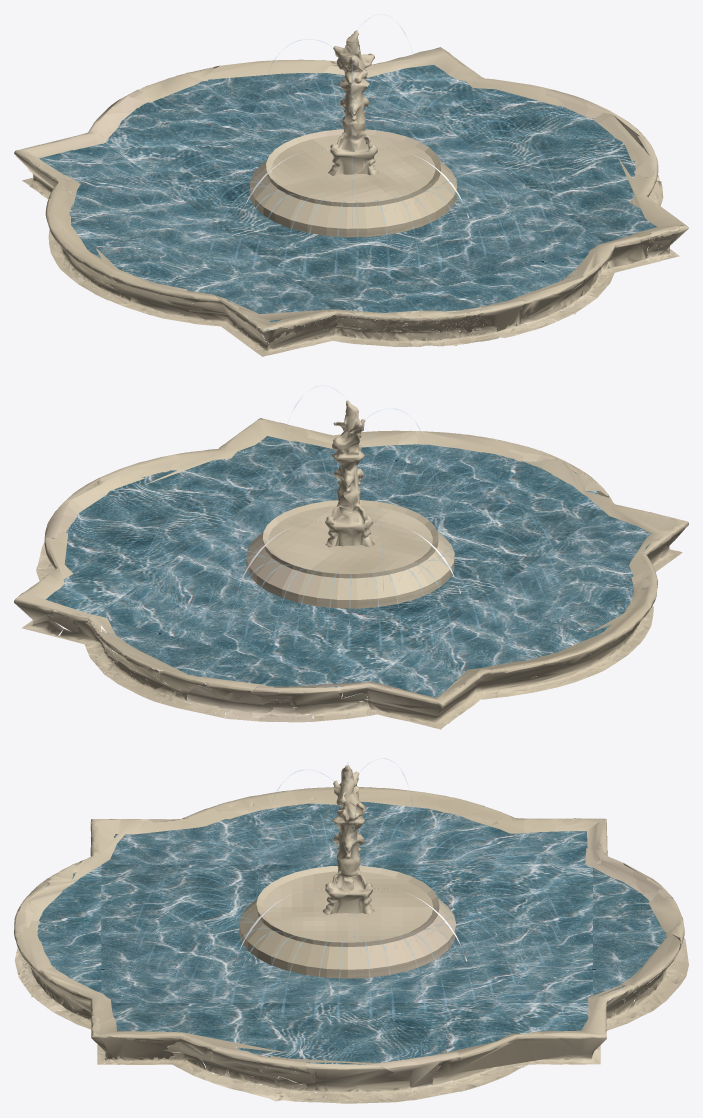
File: fountain.glb
3 renders of one model, top to bottom at view 1: azimuth 30°, elevation 25°; view 2: azimuth 150°, elevation 25°; view 3: azimuth 270°, elevation 25°, orthographic. The views are drawn at different scales.
Visible parts, largest first — view 1: Circle, Mesh_0_Material_0_0, Cylinder, Mesh_0_Material_0_0.001, BezierCurve; view 2: Circle, Mesh_0_Material_0_0, Cylinder, Mesh_0_Material_0_0.001, BezierCurve; view 3: Circle, Mesh_0_Material_0_0, Cylinder, Mesh_0_Material_0_0.001, BezierCurve.
Part boxes in pixels (x1,y1,x2,y2): Circle: (39,65,657,330); Mesh_0_Material_0_0: (14,45,684,356); Cylinder: (250,129,457,237); Mesh_0_Material_0_0.001: (16,30,688,351); BezierCurve: (148,78,556,279); Circle: (46,436,651,697); Mesh_0_Material_0_0: (14,418,686,729); Cylinder: (246,500,454,608); Mesh_0_Material_0_0.001: (36,400,688,726); BezierCurve: (146,449,556,650); Circle: (37,798,666,1067); Mesh_0_Material_0_0: (14,777,688,1103); Cylinder: (239,866,456,978); Mesh_0_Material_0_0.001: (14,765,686,1103); BezierCurve: (135,812,560,1021).
Size of the model in its own units: 8.03 by 2.75 by 8.01.
6 materials, 5 textured.
